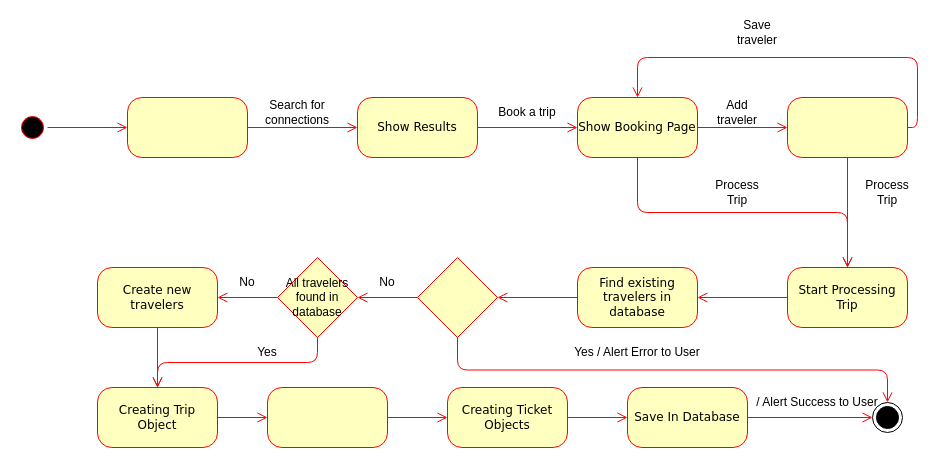
Some shapes in this 945 by 465 pixel diagram are drawn without their labels. Each missing label, with the centre of its shape:
"Creating Reservation Objects" belongs at pixel 327 417.
"Show Search Page" belongs at pixel 187 127.
"Show Traveler Details" belongs at pixel 847 127.
"Traveler has existing trip with the same connection" belongs at pixel 457 297.
